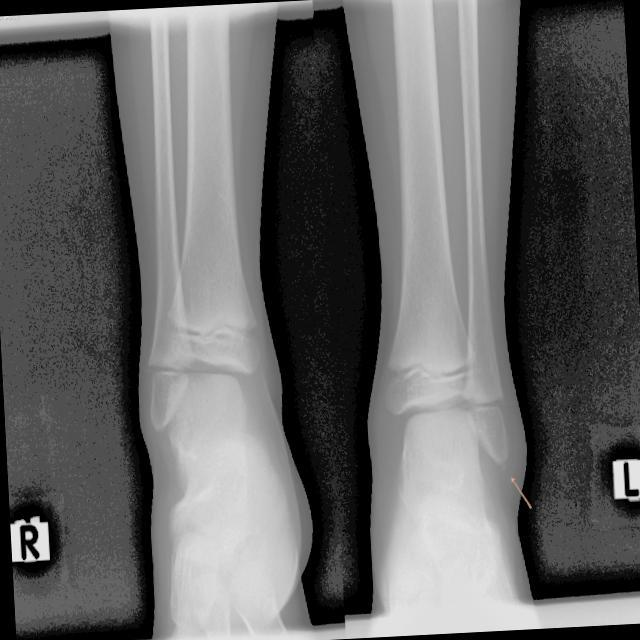Avlusion Fracture: (466, 431, 529, 486)
